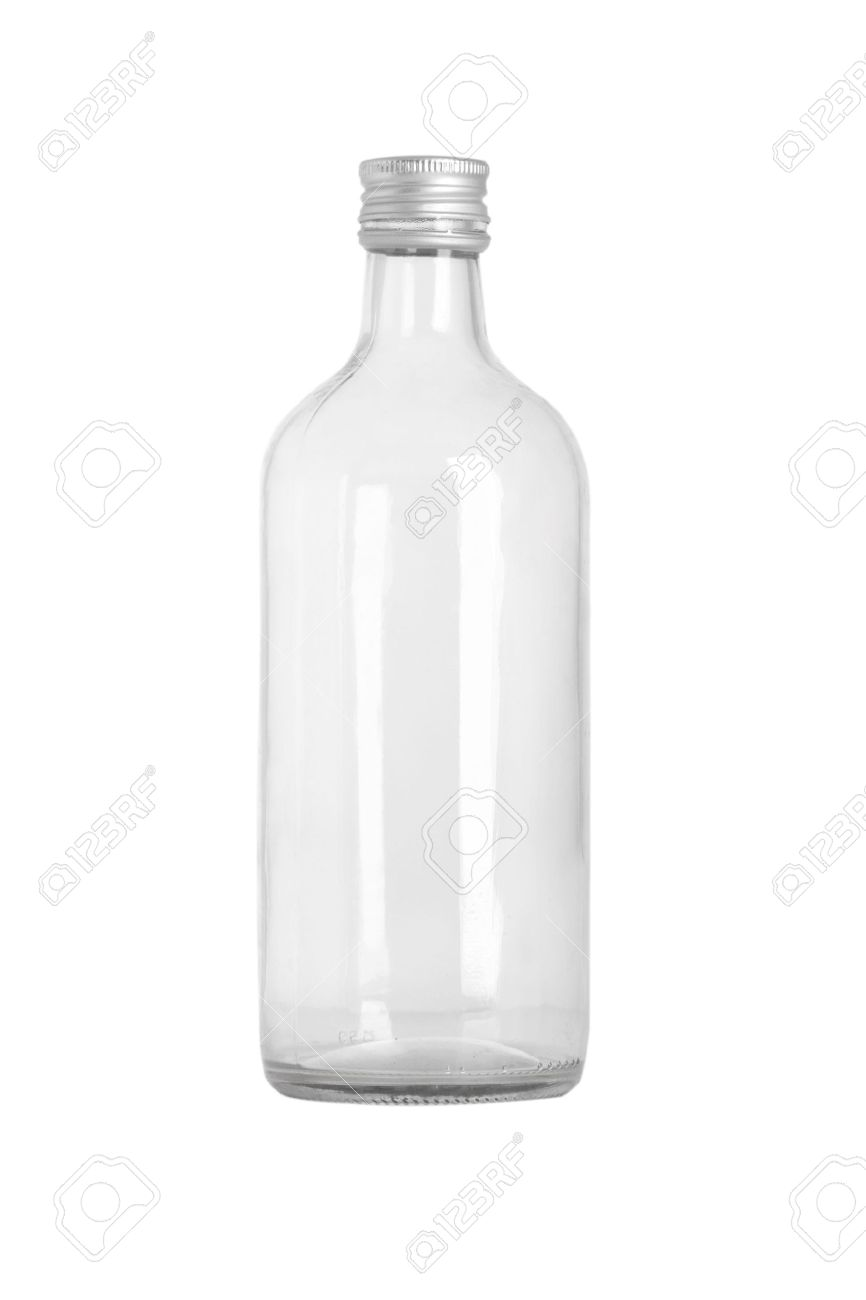glass_bottle: (248, 136, 597, 1110)
